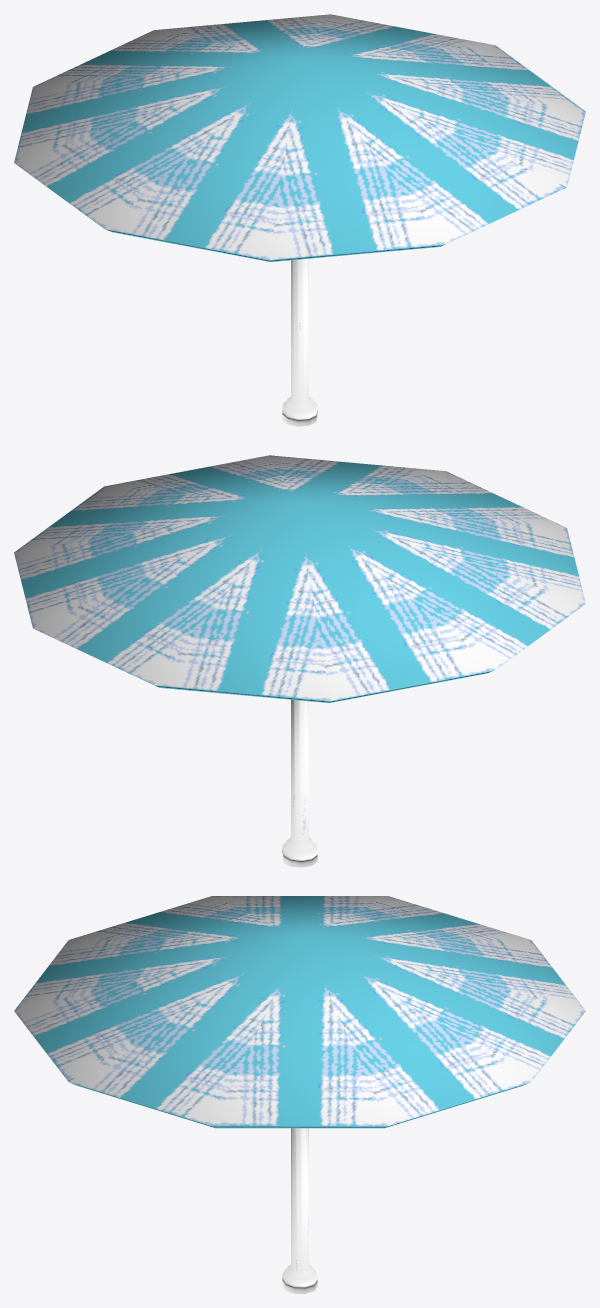
The model's file is SOMBRILLA.fbx.
3 views of the same model, one above another, from view 1: azimuth 30°, elevation 25°; view 2: azimuth 150°, elevation 25°; view 3: azimuth 270°, elevation 25° (orthographic). The views are drawn at different scales.
Visible parts, largest first — view 1: Cylinder.001; view 2: Cylinder.001; view 3: Cylinder.001.
Boxes of the visible parts, x1,y1,x2,y2 form: Cylinder.001: (14, 14, 585, 426); Cylinder.001: (14, 455, 585, 867); Cylinder.001: (14, 896, 585, 1293).
Bounding box in the file's own units: 1109 × 787 × 1167.
